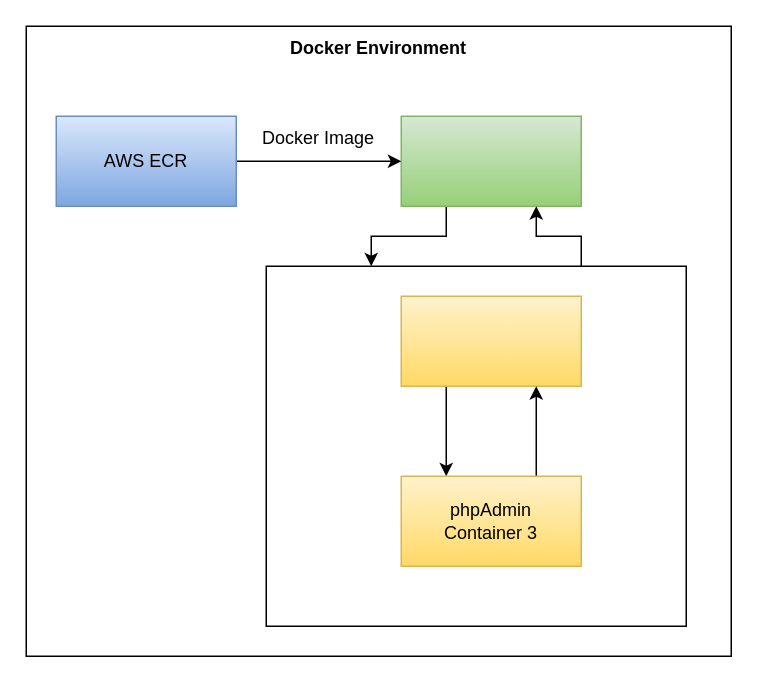
This 758x683 diagram has some shape labels left out. Each missing label, with the centre of its shape:
"MySQL DB Container 2" belongs at point (490, 340).
"Web App Container 1" belongs at point (490, 160).
